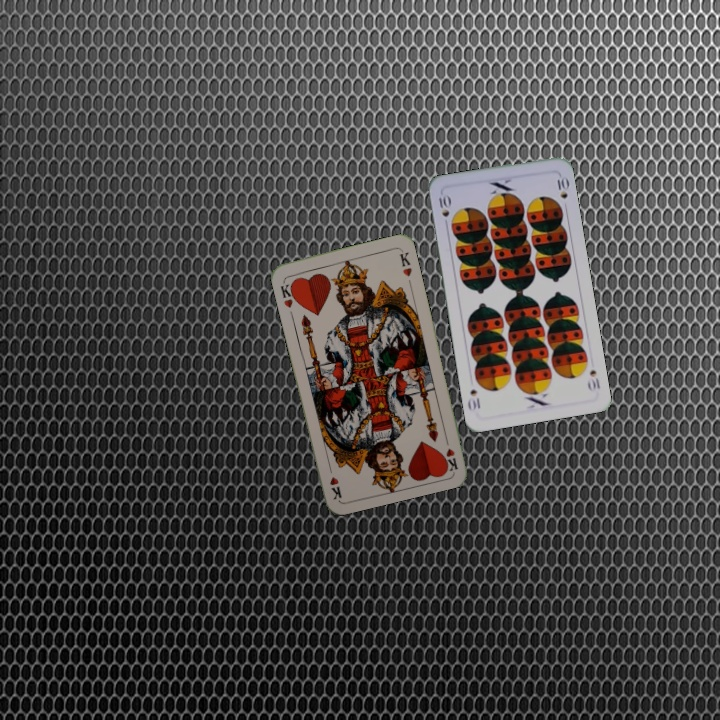HK: (441, 432, 460, 473), (277, 277, 299, 310)
S10: (584, 365, 603, 393), (435, 190, 453, 219)
